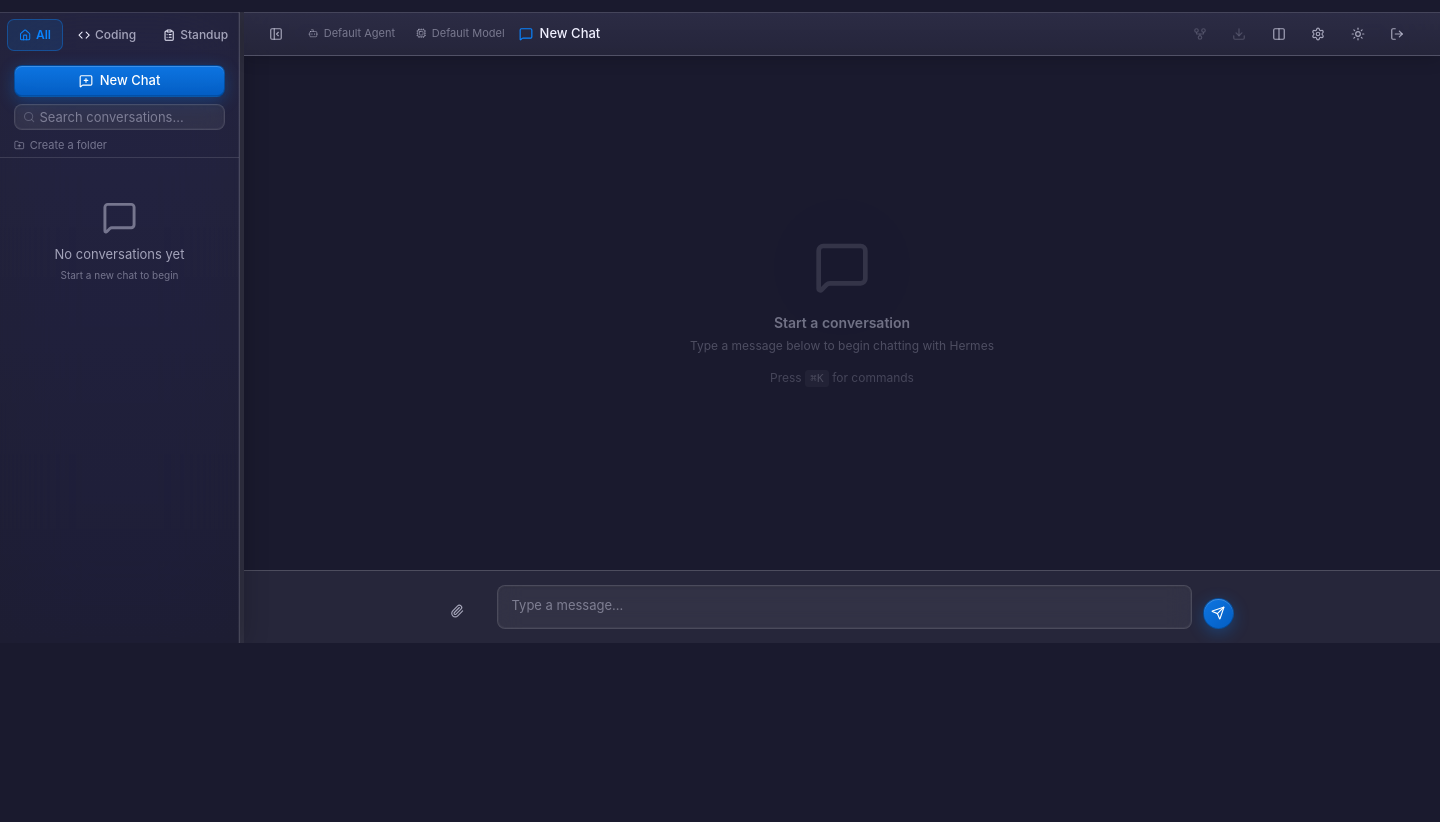
Test: ChatPage › appends assistant delta text to last assistant message
Type "Hi" into the text box with placeholder "Type a message…". click: (844, 607)
box: [496, 585, 1192, 629]
Then press Enter
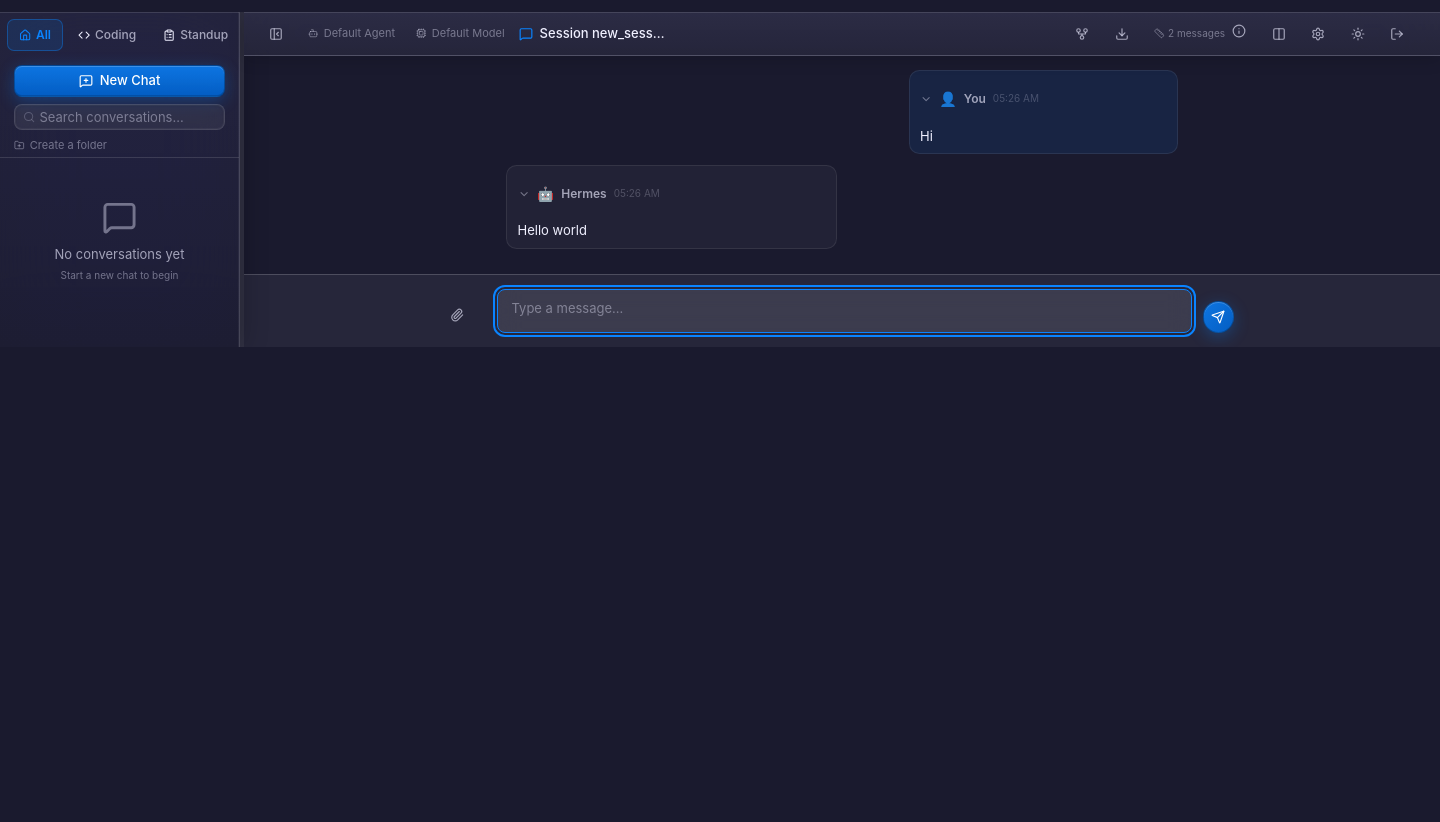
Expected: the text "Hello world" is shown, [518, 222, 587, 238]
